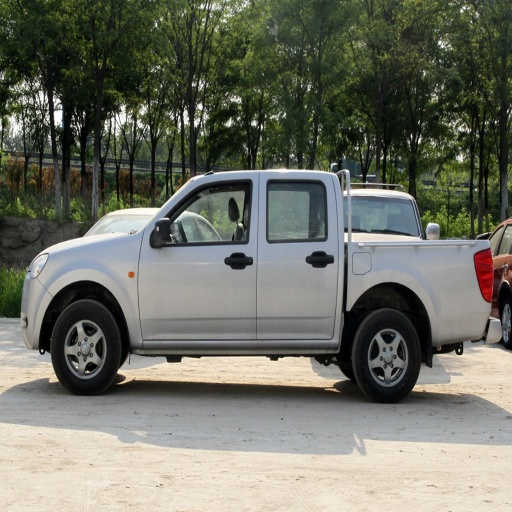back_left_door: (257, 178, 338, 335)
front_left_door: (141, 179, 258, 338)
trunk: (333, 233, 481, 346)
